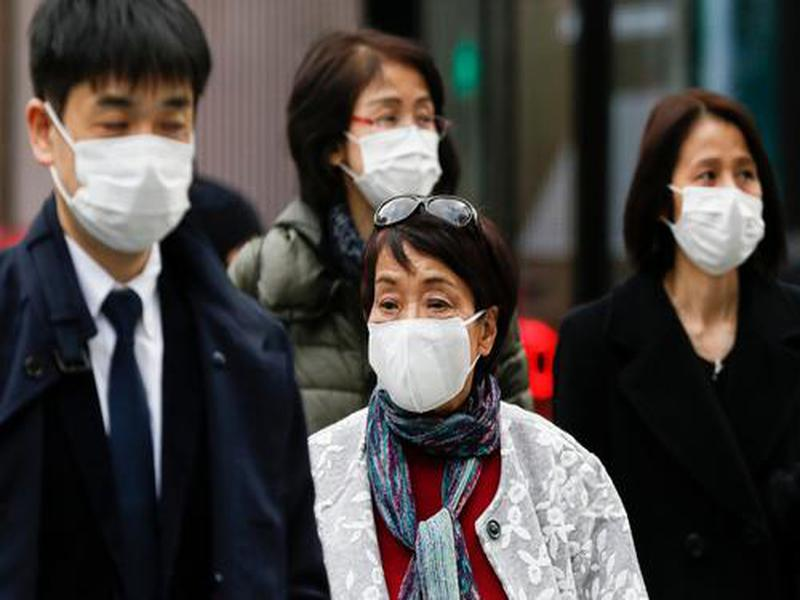with_mask: (24, 1, 211, 257), (279, 31, 447, 222), (368, 236, 515, 418), (642, 89, 766, 280)
